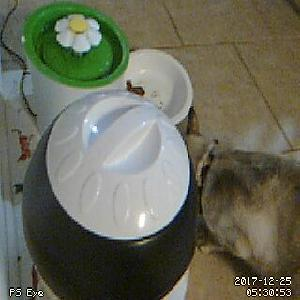cat: (180, 103, 300, 300)
fountain: (20, 3, 130, 90)
